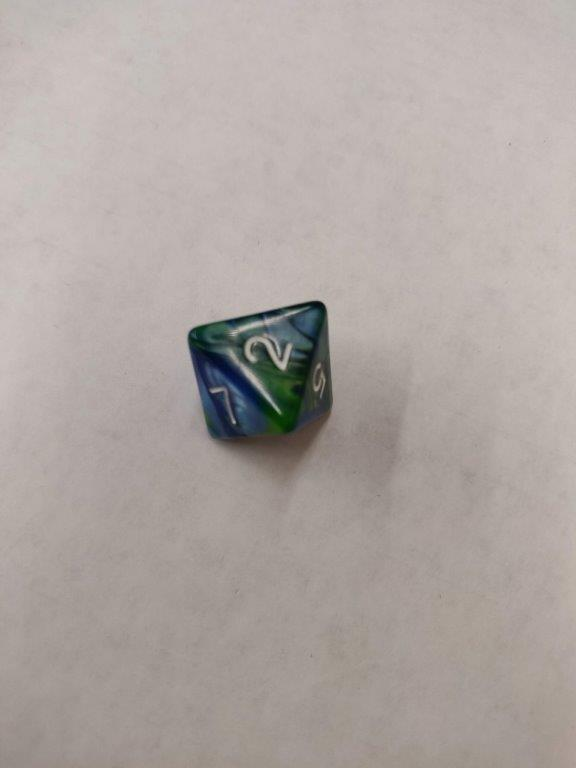d8-2: (186, 300, 333, 443)
